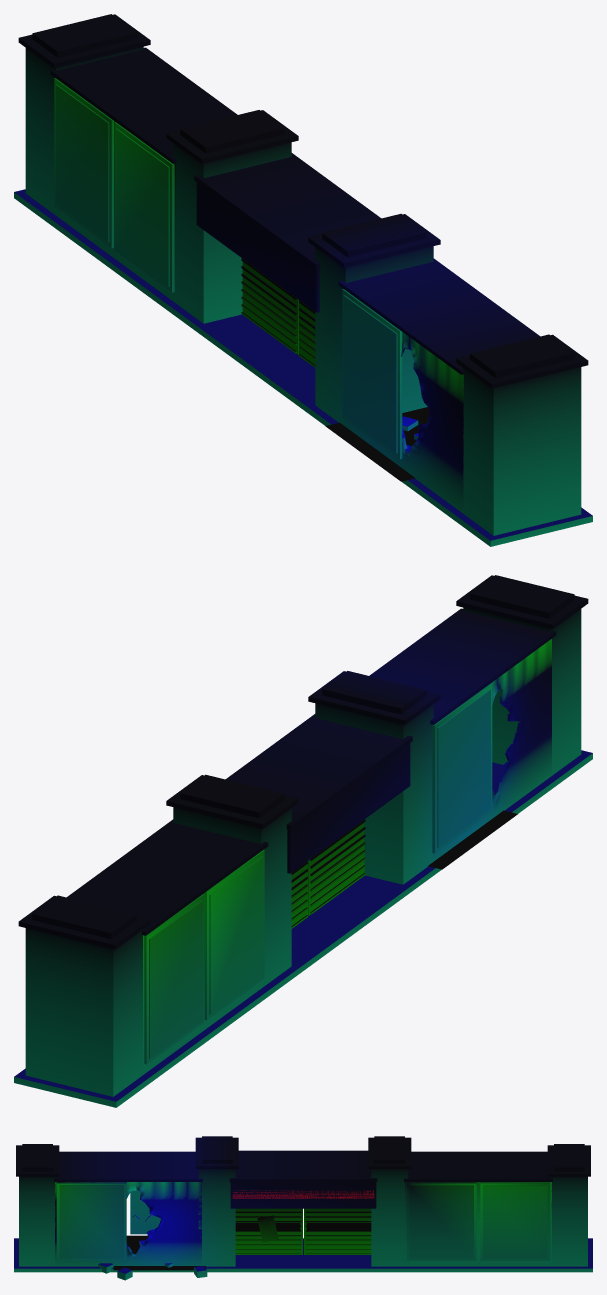
The model's file is d_mediumgate_damaged.glb.
3 views of the same model, one above another, from view 1: azimuth 30°, elevation 25°; view 2: azimuth 150°, elevation 25°; view 3: azimuth 270°, elevation 25° (orthographic). The views are drawn at different scales.
Parts seen in each view (by area): view 1: lod0, door_l, door_r; view 2: lod0, door_r, door_l; view 3: lod0, door_l, door_r.
Boxes of the visible parts, <box> form: lod0: <box>14,14,592,546</box>; door_l: <box>241,258,298,354</box>; door_r: <box>298,300,315,367</box>; lod0: <box>14,575,592,1107</box>; door_r: <box>308,819,365,915</box>; door_l: <box>291,861,308,928</box>; lod0: <box>14,1136,592,1280</box>; door_l: <box>304,1208,371,1254</box>; door_r: <box>235,1208,302,1254</box>.
Size of what is drawn, in the model's own units: 9.48 by 11.72 by 56.4.
